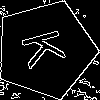K: (20, 24, 75, 70)
